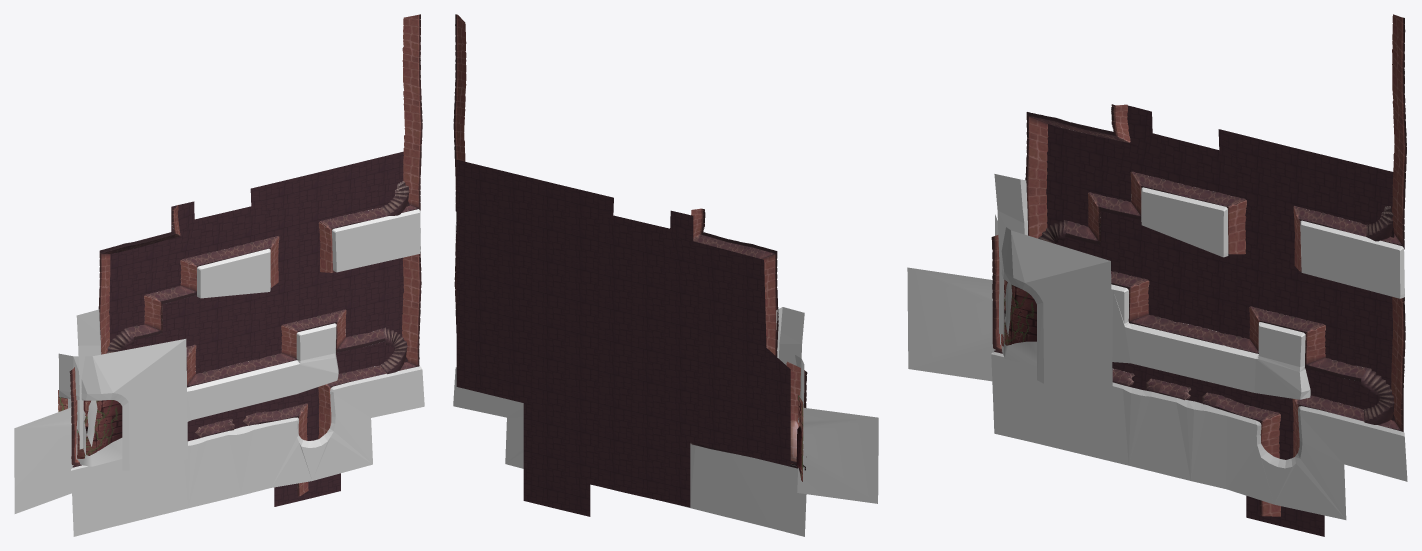
The model's file is LVL 7 Pt2.FBX.
3 renders of one model, left to right at view 1: azimuth 30°, elevation 25°; view 2: azimuth 150°, elevation 25°; view 3: azimuth 330°, elevation 25°, orthographic. The views are drawn at different scales.
Parts seen in each view (by area): view 1: LVL 7 Black Pt 2_1, Griffin Tower BG Pt2_4, Griffin Tower BG Pt2_3, LVL 7 Black Castle Entrance, LVL 7 Black Pt 2_2, Griffin Tower BG Pt2_2, LVL 7 Black Pt 2_3, Griffin Tower Entrance Int Mask, Griffin Tower BG Pt2_1, Griffin Tower Pt2_8, Griffin Tower Pt2_2, Griffin Tower Pt2_9 (+10 smaller); view 2: Griffin Tower BG Pt2_1, Griffin Tower BG Pt2_4, Griffin Tower BG Pt2_2, Griffin Tower BG Pt2_3, LVL 7 Black Pt 2_1, Griffin Tower Entrance Int Mask, Griffin Tower Pt2_8, Griffin Tower Pt2_5, LVL 7 Black Pt 2_2, Griffin Tower Pt2_7, Griffin Tower Pt2_1; view 3: LVL 7 Black Pt 2_1, Griffin Tower BG Pt2_4, Griffin Tower BG Pt2_3, LVL 7 Black Castle Entrance, LVL 7 Black Pt 2_2, Griffin Tower BG Pt2_2, LVL 7 Black Pt 2_3, Griffin Tower Entrance Int Mask, Griffin Tower BG Pt2_1, Griffin Tower Pt2_8, Griffin Tower Pt2_4, Griffin Tower Pt2_9 (+11 smaller).
Part boxes in pixels (x1,y1,x2,y2): LVL 7 Black Pt 2_1: [71, 366, 424, 536]; Griffin Tower BG Pt2_4: [109, 183, 274, 346]; Griffin Tower BG Pt2_3: [274, 151, 403, 312]; LVL 7 Black Castle Entrance: [58, 339, 187, 470]; LVL 7 Black Pt 2_2: [76, 309, 338, 449]; Griffin Tower BG Pt2_2: [274, 281, 403, 506]; LVL 7 Black Pt 2_3: [197, 209, 420, 298]; Griffin Tower Entrance Int Mask: [14, 407, 77, 513]; Griffin Tower BG Pt2_1: [123, 312, 274, 441]; Griffin Tower Pt2_8: [318, 14, 422, 272]; Griffin Tower Pt2_2: [318, 252, 421, 438]; Griffin Tower Pt2_9: [128, 236, 278, 340]; Griffin Tower BG Pt2_1: [590, 322, 790, 507]; Griffin Tower BG Pt2_4: [590, 192, 789, 368]; Griffin Tower BG Pt2_2: [456, 289, 590, 516]; Griffin Tower BG Pt2_3: [456, 160, 590, 321]; LVL 7 Black Pt 2_1: [453, 367, 806, 536]; Griffin Tower Entrance Int Mask: [797, 407, 878, 503]; Griffin Tower Pt2_8: [453, 14, 466, 211]; Griffin Tower Pt2_5: [759, 247, 778, 356]; LVL 7 Black Pt 2_2: [776, 307, 804, 365]; Griffin Tower Pt2_7: [691, 208, 762, 258]; Griffin Tower Pt2_1: [704, 361, 807, 457]; LVL 7 Black Pt 2_1: [991, 352, 1407, 519]; Griffin Tower BG Pt2_4: [1046, 105, 1246, 288]; Griffin Tower BG Pt2_3: [1246, 136, 1393, 324]; LVL 7 Black Castle Entrance: [995, 214, 1112, 403]; LVL 7 Black Pt 2_2: [994, 174, 1310, 399]; Griffin Tower BG Pt2_2: [1246, 288, 1403, 536]; LVL 7 Black Pt 2_3: [1141, 187, 1404, 298]; Griffin Tower Entrance Int Mask: [907, 267, 1001, 381]; Griffin Tower BG Pt2_1: [1054, 241, 1246, 404]; Griffin Tower Pt2_8: [1293, 14, 1406, 271]; Griffin Tower Pt2_4: [1111, 271, 1285, 353]; Griffin Tower Pt2_9: [1063, 171, 1245, 245].
Size of the model in its own units: 5028 by 337 by 5329.
